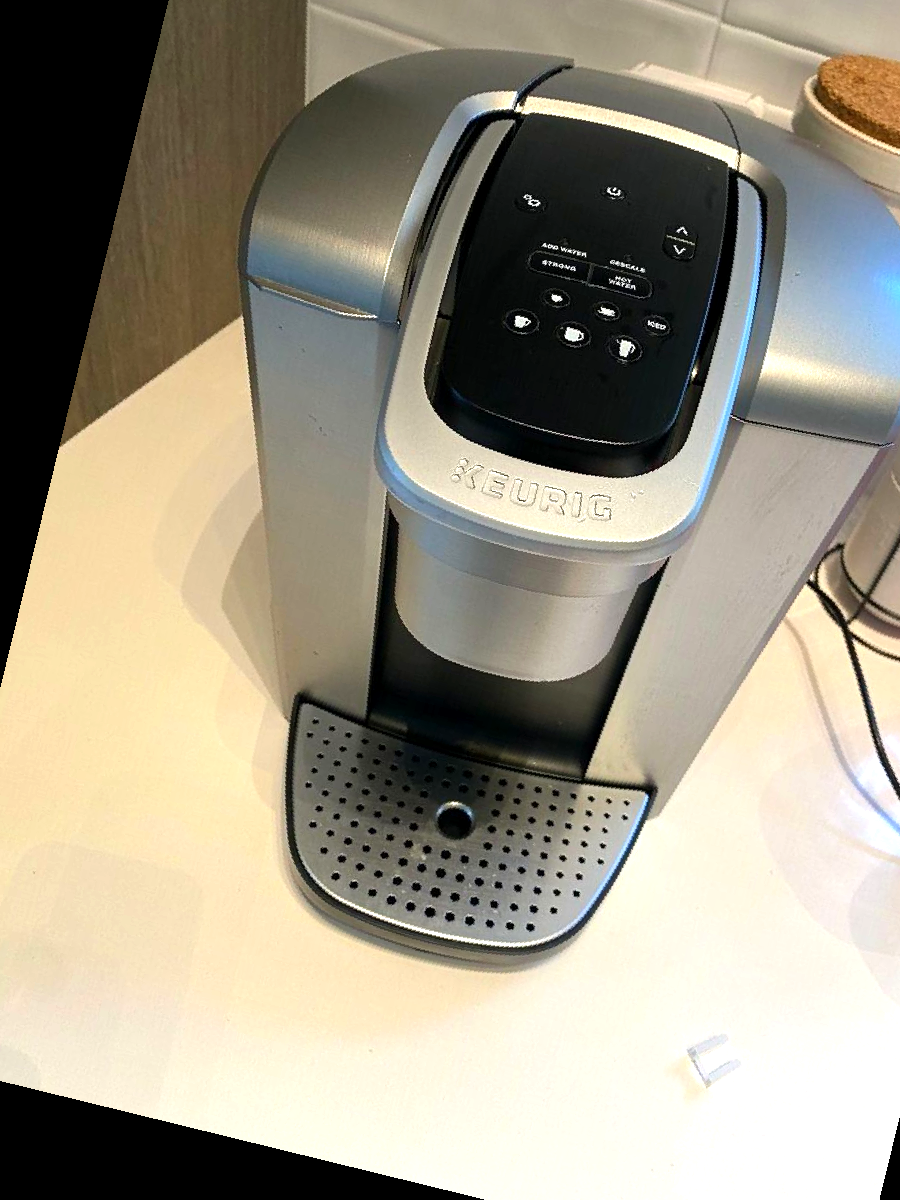10oz: (549, 314, 601, 359)
12oz: (598, 328, 651, 374)
4oz: (585, 294, 625, 330), (536, 280, 574, 315)
8oz: (496, 299, 547, 344)
add_water: (532, 213, 601, 262)
descale: (598, 230, 666, 279)
hot: (584, 262, 657, 307)
iced: (638, 309, 677, 345)
power: (591, 177, 634, 208)
strong: (523, 245, 590, 288)
